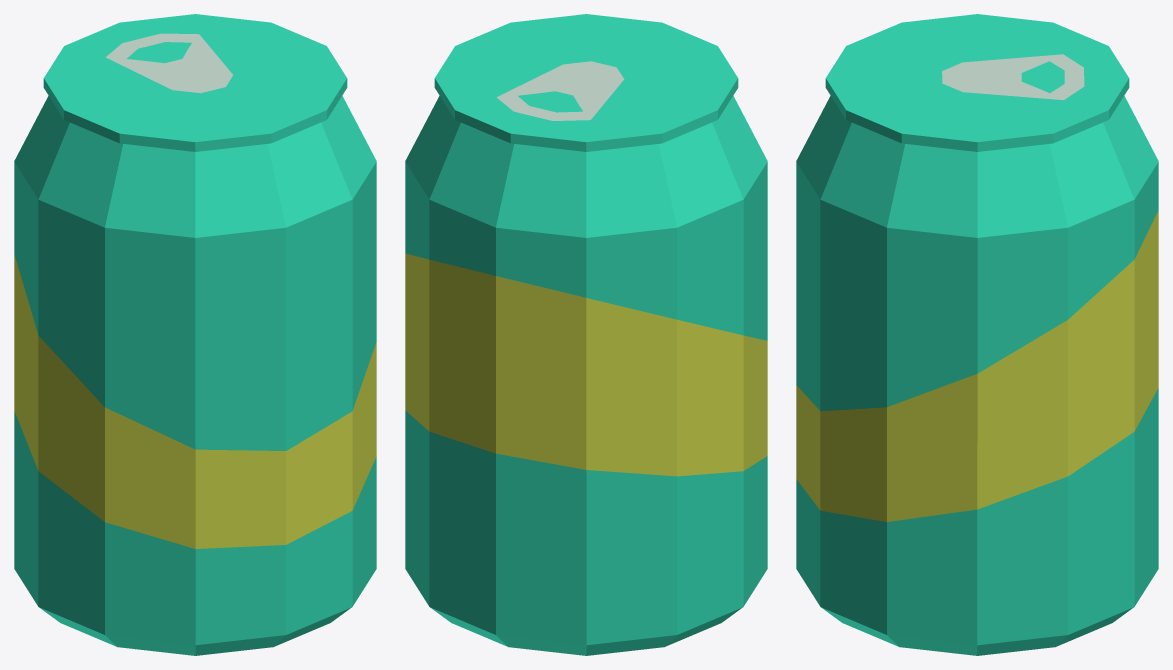
Rendered from LemonadeCan.fbx.
The picture shows the model from 3 angles, left to right: view 1: azimuth 30°, elevation 25°; view 2: azimuth 150°, elevation 25°; view 3: azimuth 270°, elevation 25°; orthographic projection.
Parts seen in each view (by area): view 1: Can, Opener; view 2: Can, Opener; view 3: Can, Opener.
Part boxes in pixels (x1=…): Can: x1=14, y1=14, x2=376, y2=655; Opener: x1=105, y1=33, x2=232, y2=93; Can: x1=405, y1=14, x2=767, y2=655; Opener: x1=496, y1=61, x2=624, y2=120; Can: x1=796, y1=14, x2=1158, y2=655; Opener: x1=942, y1=54, x2=1084, y2=99.
Size of the model in its own units: 15.39 by 24 by 15.39.
